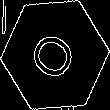O_SE: (26, 24, 84, 86)
